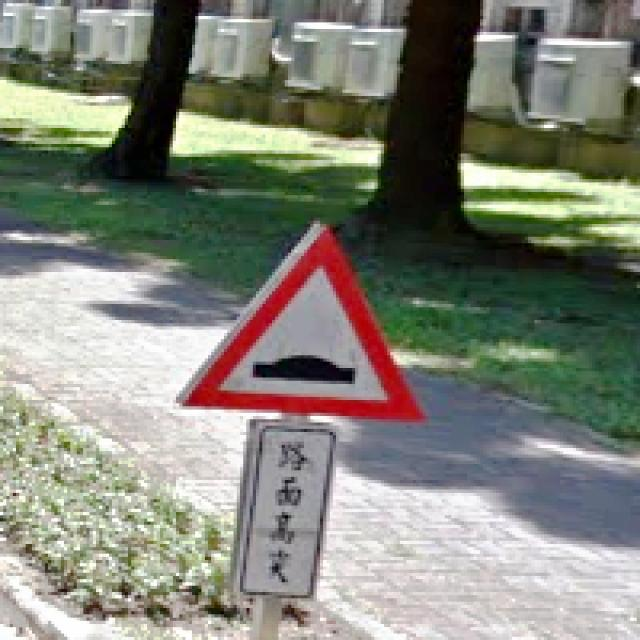hump: (181, 228, 425, 421)
